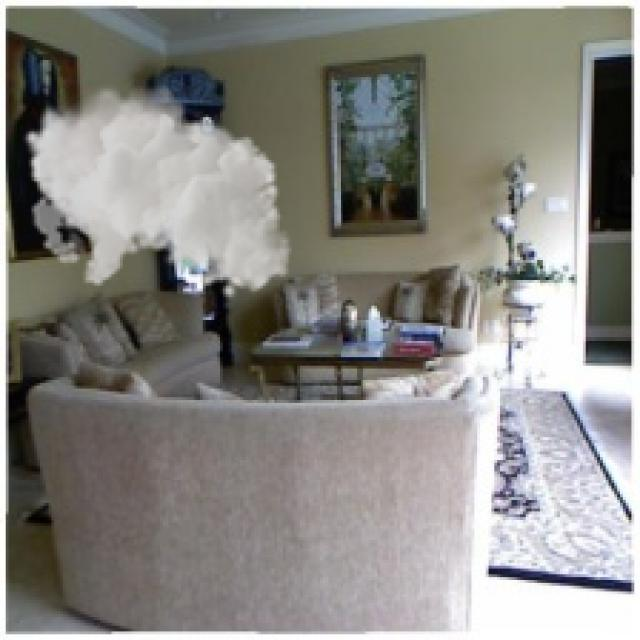Smoke: (22, 77, 292, 300)
